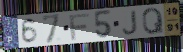5: (93, 9, 112, 41)
6: (20, 17, 39, 44)
7: (42, 13, 62, 45)
F: (68, 12, 91, 41)
J: (122, 9, 139, 36)
Q: (141, 7, 165, 36)
